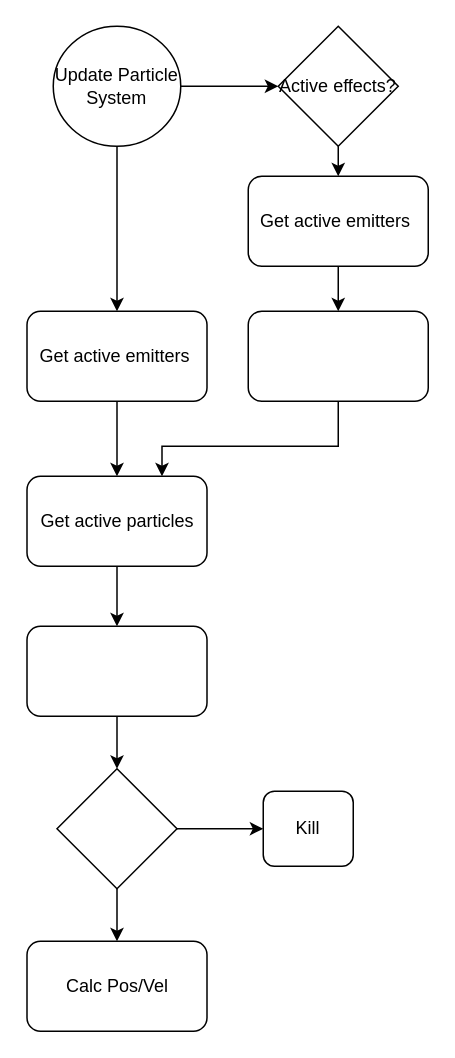
Some shapes in this 455 by 1058 pixel diagram are drawn without their labels. The box of each missing label's shape, as (x1, y1, x2, y2) in pixels:
Get particle attributes: (26, 625, 207, 716)
Is Kill?: (56, 767, 177, 889)
Set Attributes: (247, 310, 428, 401)
